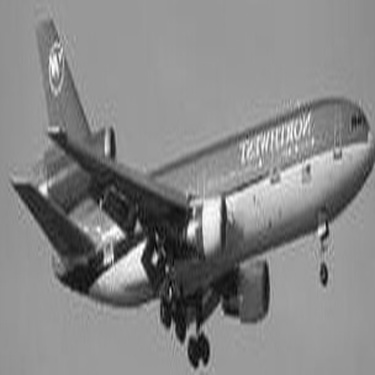airplane: (1, 9, 365, 369)
